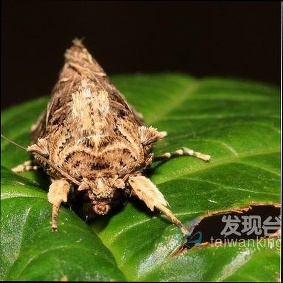Spodoptera litura: (1, 35, 211, 234)
